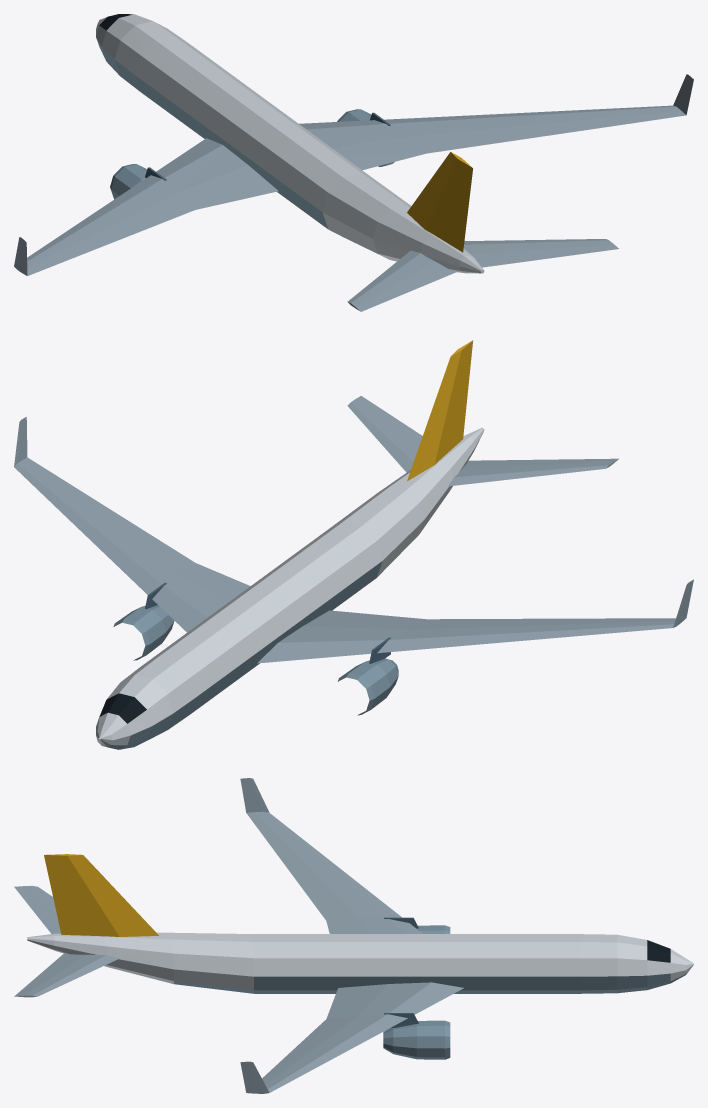
3 views of the same model, one above another, from view 1: azimuth 30°, elevation 25°; view 2: azimuth 150°, elevation 25°; view 3: azimuth 270°, elevation 25° (orthographic). The views are drawn at different scales.
Parts seen in each view (by area): view 1: lod0; view 2: lod0; view 3: lod0.
Part boxes in pixels (box(x1,y1,x2,y2)): lod0: box(14, 14, 693, 311); lod0: box(14, 340, 693, 749); lod0: box(14, 778, 693, 1093).
Size of what is drawn, in the model's own units: 0.9868 by 0.2509 by 1.
